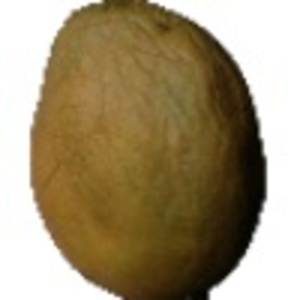mamão: (22, 1, 275, 294)
